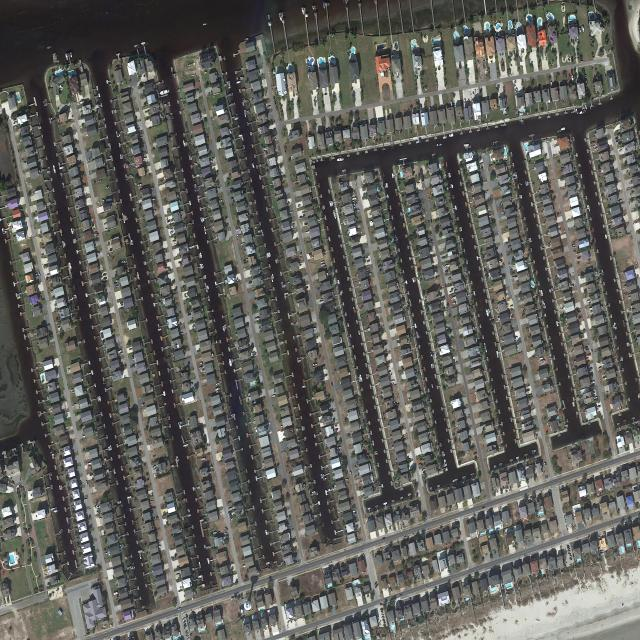ship: (159, 89, 169, 95), (68, 262, 73, 270), (485, 309, 489, 318), (579, 109, 586, 114), (194, 187, 201, 192), (359, 374, 363, 382), (336, 158, 344, 162), (214, 387, 220, 392), (79, 100, 85, 105), (443, 459, 447, 466), (463, 143, 470, 147), (37, 411, 41, 418), (229, 358, 232, 367), (614, 321, 617, 330), (279, 12, 282, 21), (53, 164, 56, 173), (252, 400, 257, 405), (451, 296, 456, 301), (197, 574, 202, 579), (117, 349, 122, 354), (575, 108, 579, 114), (560, 127, 566, 131), (541, 289, 544, 297), (65, 53, 68, 61), (301, 7, 304, 15), (257, 229, 263, 233), (571, 75, 574, 82), (582, 25, 585, 32), (106, 199, 113, 202), (43, 100, 46, 107), (183, 140, 186, 147), (200, 216, 203, 223), (329, 200, 332, 207), (71, 228, 74, 235), (312, 327, 317, 331), (326, 327, 331, 331), (445, 264, 450, 268), (617, 199, 622, 203), (577, 316, 582, 320), (37, 126, 42, 130), (170, 220, 175, 224), (183, 443, 188, 447), (141, 403, 146, 407), (157, 328, 162, 332), (236, 227, 240, 232), (238, 134, 243, 138), (234, 116, 239, 120), (121, 260, 126, 264), (59, 166, 64, 170), (126, 495, 131, 499), (117, 500, 122, 504), (138, 550, 143, 554), (83, 498, 88, 502), (412, 277, 415, 283), (442, 451, 445, 457), (320, 473, 323, 479), (265, 529, 268, 535), (312, 363, 318, 366), (254, 318, 260, 321), (70, 52, 73, 58), (176, 456, 179, 462), (268, 251, 271, 257), (252, 162, 255, 168), (125, 215, 128, 221), (109, 445, 112, 451), (98, 396, 101, 402), (323, 477, 327, 481), (82, 435, 86, 439), (178, 421, 182, 425), (199, 366, 203, 370), (16, 296, 20, 300), (115, 279, 119, 283), (105, 186, 109, 190), (117, 134, 121, 138), (87, 462, 91, 466), (50, 290, 54, 294), (367, 273, 372, 276), (352, 197, 357, 200), (311, 491, 316, 494), (336, 447, 341, 450), (319, 301, 324, 304), (320, 264, 325, 267), (349, 409, 354, 412), (540, 360, 545, 363), (572, 402, 575, 407), (449, 172, 452, 177), (215, 383, 220, 386), (284, 292, 289, 295), (305, 231, 310, 234), (236, 81, 241, 84), (2, 231, 7, 234), (137, 184, 142, 187), (53, 510, 58, 513), (323, 2, 325, 9), (242, 565, 246, 568), (579, 27, 581, 33), (366, 373, 368, 379), (408, 397, 411, 401), (388, 67, 390, 73), (451, 101, 453, 107), (464, 99, 466, 105), (213, 531, 217, 534), (272, 395, 276, 398), (302, 385, 306, 388), (223, 326, 225, 332), (323, 266, 327, 269), (320, 261, 324, 264), (282, 285, 286, 288), (544, 303, 546, 309), (544, 463, 547, 467), (519, 182, 522, 186), (451, 183, 453, 189), (231, 414, 235, 417), (19, 139, 23, 142), (629, 352, 631, 358), (47, 46, 51, 49), (143, 157, 147, 160), (226, 81, 230, 84), (197, 195, 201, 198), (200, 362, 204, 365), (200, 252, 202, 258), (295, 182, 299, 185), (286, 203, 290, 206), (187, 514, 191, 517), (200, 519, 204, 522), (131, 239, 133, 245), (136, 272, 139, 276), (109, 193, 112, 197), (120, 154, 122, 160), (59, 485, 61, 491), (48, 281, 52, 284), (585, 105, 587, 110), (431, 364, 433, 369), (437, 144, 442, 146), (432, 383, 434, 388), (429, 107, 431, 112), (516, 89, 518, 94), (514, 345, 519, 347), (542, 299, 544, 304), (621, 356, 623, 361), (525, 181, 527, 186), (514, 172, 516, 177), (460, 226, 462, 231), (216, 391, 221, 393), (638, 394, 640, 399), (626, 342, 628, 347), (272, 274, 274, 279), (169, 117, 174, 119), (207, 285, 209, 290), (202, 263, 204, 268), (267, 253, 269, 258), (275, 259, 277, 264), (295, 93, 297, 98), (73, 239, 75, 244), (64, 242, 66, 247), (391, 380, 394, 383), (49, 117, 52, 120), (241, 243, 244, 246), (290, 211, 293, 214), (295, 180, 298, 183), (292, 181, 295, 184), (176, 574, 179, 577), (147, 629, 149, 633), (376, 451, 378, 455), (446, 467, 448, 471), (549, 289, 551, 293), (203, 23, 207, 25), (205, 275, 207, 279), (312, 6, 314, 10), (138, 276, 140, 280), (57, 326, 61, 328), (298, 360, 301, 362), (510, 306, 513, 308), (231, 197, 234, 199), (281, 182, 284, 184), (521, 194, 522, 199), (588, 268, 592, 269)
small-vehicle: (377, 263, 382, 268), (187, 312, 192, 316), (599, 550, 604, 554), (618, 141, 623, 145), (588, 367, 593, 371), (375, 583, 378, 589), (382, 537, 386, 541), (228, 510, 232, 514), (179, 332, 183, 336), (167, 219, 171, 223), (522, 312, 526, 316), (156, 469, 160, 473), (96, 252, 100, 256), (587, 353, 591, 357), (230, 517, 233, 522), (371, 294, 376, 297), (152, 209, 157, 212), (204, 134, 209, 137), (273, 96, 276, 101), (111, 256, 114, 261), (38, 272, 41, 277), (85, 481, 88, 486), (576, 40, 579, 44), (366, 260, 370, 263), (365, 257, 369, 260), (366, 268, 370, 271), (422, 468, 426, 471), (354, 203, 358, 206), (345, 478, 349, 481), (350, 470, 352, 476), (228, 501, 231, 505), (229, 507, 233, 510), (229, 515, 232, 519), (280, 425, 284, 428), (182, 618, 185, 622), (185, 632, 188, 636), (184, 625, 187, 629), (183, 620, 186, 624), (304, 222, 308, 225), (289, 471, 293, 474), (243, 261, 247, 264), (396, 403, 400, 406), (249, 281, 253, 284), (228, 513, 232, 516), (189, 382, 193, 385), (166, 267, 170, 270), (227, 178, 231, 181), (419, 458, 423, 461), (423, 470, 426, 474), (434, 271, 438, 274), (379, 603, 383, 606), (374, 581, 377, 585), (441, 257, 445, 260), (382, 618, 385, 622), (383, 623, 386, 627), (616, 139, 619, 143), (615, 137, 619, 140), (585, 357, 589, 360), (146, 478, 150, 481), (500, 211, 504, 214), (598, 367, 602, 370), (585, 349, 589, 352), (42, 247, 46, 250), (103, 273, 107, 276), (103, 277, 107, 280), (120, 301, 124, 304), (572, 246, 576, 249), (580, 333, 584, 336), (170, 231, 174, 234), (209, 159, 213, 162), (172, 240, 176, 243), (229, 188, 233, 191), (39, 236, 43, 239), (101, 199, 105, 202), (88, 465, 92, 468), (95, 504, 98, 508), (73, 403, 77, 406), (71, 388, 74, 392), (545, 56, 547, 61), (541, 55, 543, 60), (424, 186, 426, 191), (459, 531, 461, 536), (140, 73, 142, 78), (430, 218, 432, 223), (591, 349, 593, 354), (334, 424, 337, 427), (225, 532, 228, 535), (324, 374, 327, 377), (225, 528, 228, 531), (186, 635, 189, 638), (185, 630, 188, 633), (183, 623, 186, 626), (388, 370, 391, 373), (243, 259, 246, 262), (202, 368, 205, 371), (400, 594, 403, 597), (381, 614, 384, 617), (382, 616, 385, 619), (383, 621, 386, 624), (569, 555, 572, 558), (568, 552, 571, 555), (568, 550, 571, 553), (567, 547, 570, 550), (567, 545, 570, 548), (513, 264, 516, 267), (515, 275, 518, 278), (132, 358, 135, 361), (13, 118, 16, 121), (14, 121, 17, 124), (619, 149, 622, 152), (572, 244, 575, 247), (170, 228, 173, 231), (153, 465, 156, 468), (154, 468, 157, 471), (309, 253, 312, 256), (150, 500, 153, 503), (41, 254, 44, 257), (94, 231, 97, 234), (105, 228, 108, 231), (104, 223, 107, 226), (139, 136, 142, 139), (98, 180, 101, 183), (34, 273, 37, 276), (36, 275, 39, 278), (96, 511, 99, 514), (99, 517, 102, 520), (105, 552, 108, 555), (72, 391, 75, 394), (129, 348, 132, 351), (598, 73, 600, 77), (585, 75, 587, 79), (400, 525, 402, 529), (515, 62, 517, 66), (353, 513, 357, 515), (331, 382, 333, 386), (177, 608, 181, 610), (272, 136, 276, 138), (397, 411, 401, 413), (418, 464, 422, 466), (148, 113, 152, 115), (205, 137, 209, 139), (264, 587, 266, 591), (597, 406, 601, 408), (479, 163, 483, 165), (64, 430, 68, 432), (584, 347, 588, 349), (570, 285, 574, 287), (143, 74, 145, 78), (291, 224, 295, 226), (274, 101, 276, 105), (95, 234, 99, 236), (23, 162, 27, 164), (97, 508, 101, 510), (115, 286, 119, 288), (580, 61, 583, 63), (510, 64, 512, 67), (357, 209, 360, 211), (335, 429, 338, 431), (299, 216, 302, 218), (191, 388, 194, 390), (570, 557, 572, 560), (457, 537, 460, 539), (390, 589, 392, 592), (380, 609, 383, 611), (381, 612, 384, 614), (508, 246, 511, 248), (512, 277, 515, 279), (489, 215, 492, 217), (431, 240, 434, 242), (449, 291, 452, 293), (114, 282, 117, 284), (573, 251, 576, 253), (219, 200, 222, 202), (217, 188, 220, 190), (211, 157, 214, 159), (267, 106, 270, 108), (95, 236, 98, 238), (97, 506, 100, 508), (42, 299, 45, 301), (120, 304, 123, 306), (468, 98, 469, 103), (475, 90, 476, 95), (473, 92, 474, 96), (506, 242, 508, 244), (510, 269, 512, 271), (276, 106, 277, 110), (453, 303, 456, 304)
